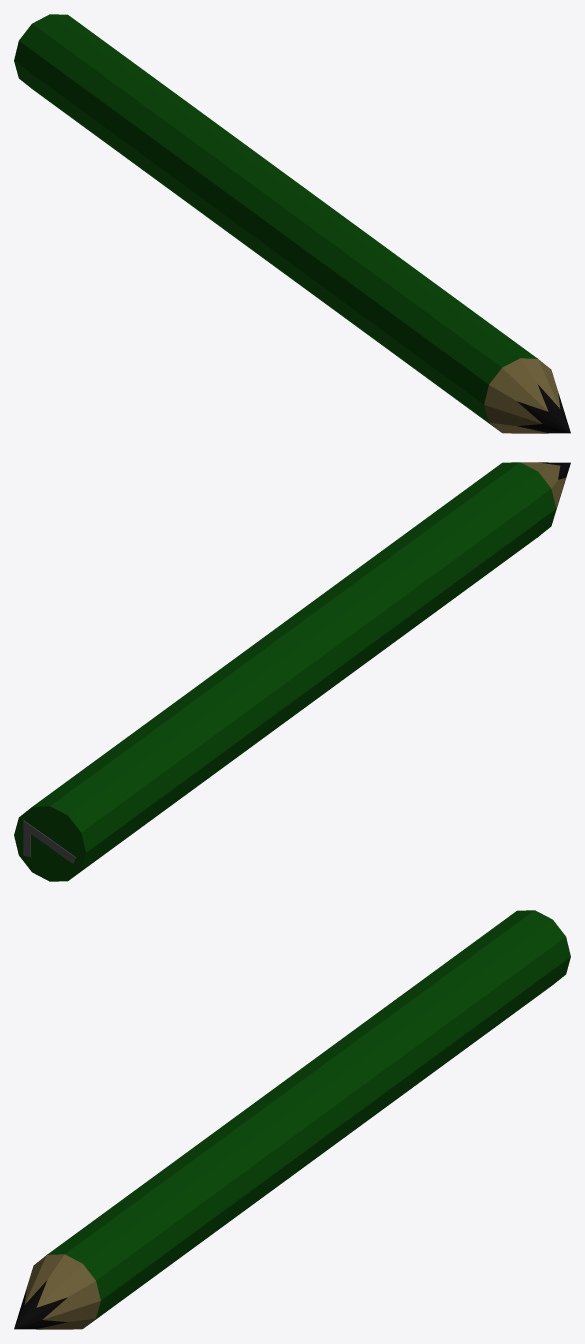
The model's file is green.obj.
3 views of the same model, one above another, from view 1: azimuth 30°, elevation 25°; view 2: azimuth 150°, elevation 25°; view 3: azimuth 330°, elevation 25° (orthographic).
Visible parts, largest first — view 1: greenpencil; view 2: greenpencil; view 3: greenpencil.
Part boxes in pixels (left/top/right/bottom): greenpencil: left=14, top=14, right=570, bottom=433; greenpencil: left=14, top=462, right=570, bottom=881; greenpencil: left=14, top=910, right=570, bottom=1329.
Bounding box in the file's own units: 0.02 × 0.02 × 0.2502.
